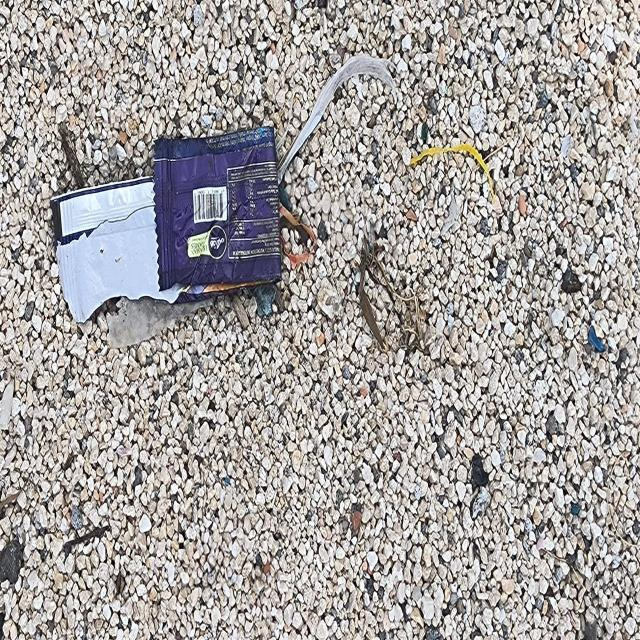plastic_waste: (50, 124, 284, 352)
